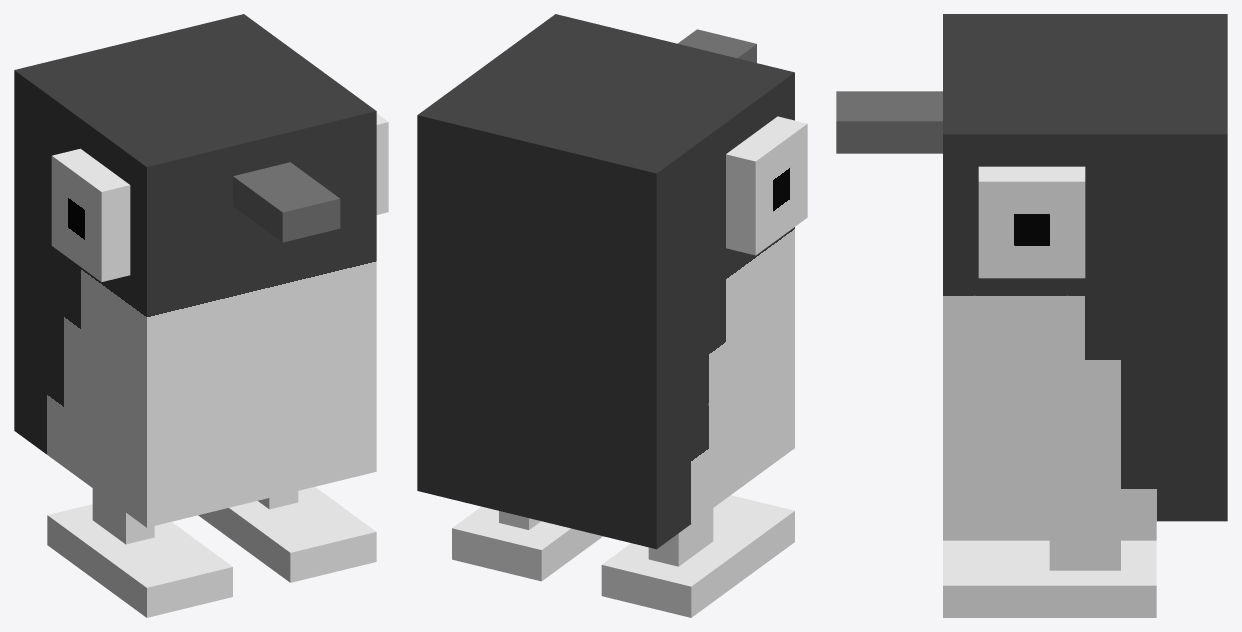
File: Penguin.fbx
3 renders of one model, left to right at view 1: azimuth 30°, elevation 25°; view 2: azimuth 150°, elevation 25°; view 3: azimuth 270°, elevation 25°, orthographic. The views are drawn at different scales.
Visible parts, largest first — view 1: Penguin; view 2: Penguin; view 3: Penguin.
Part boxes in pixels (x1,y1,x2,y2): Penguin: (14,14,388,617); Penguin: (417,14,807,617); Penguin: (836,14,1227,617).
Size of the model in its own units: 10 by 15 by 11.
Materials: 1 (1 with a texture image).
